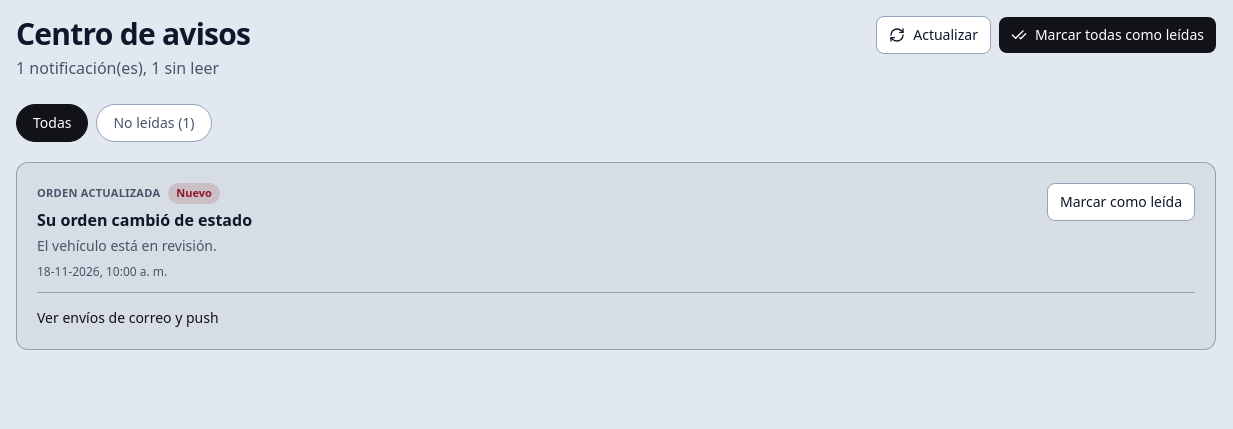
Test: NotificationsPage: estados de carga, error y lista vacía › muestra el error al no poder marcar un aviso como leído
This screenshot has width=1233, height=429.
Click the button "Marcar como leída". click: (1121, 202)
box: [1047, 183, 1195, 221]
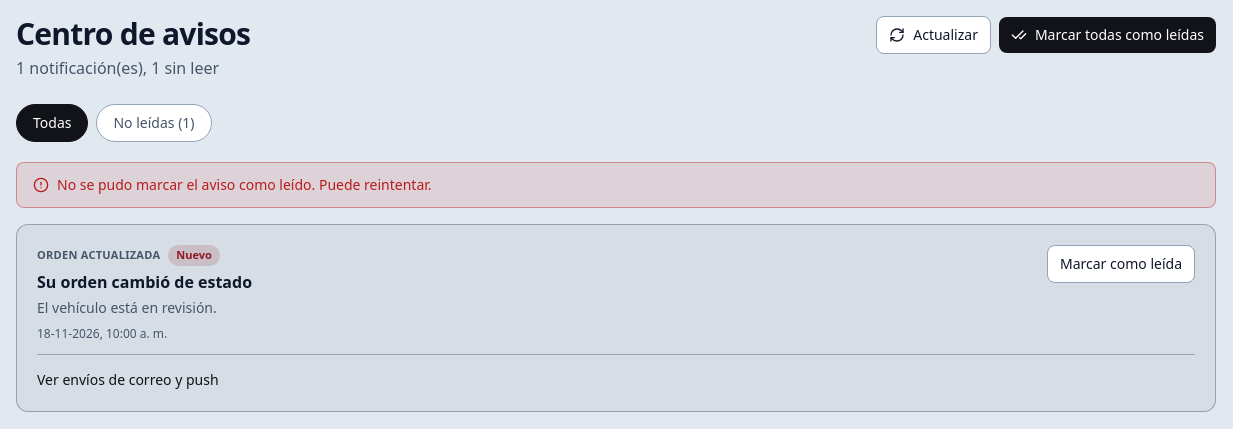
Expected: the heading "Su orden cambió de estado" is shown, [37, 270, 252, 292]
Now the text "No se pudo marcar el aviso como leído. Puede reintentar." is shown, box [57, 175, 432, 195]
